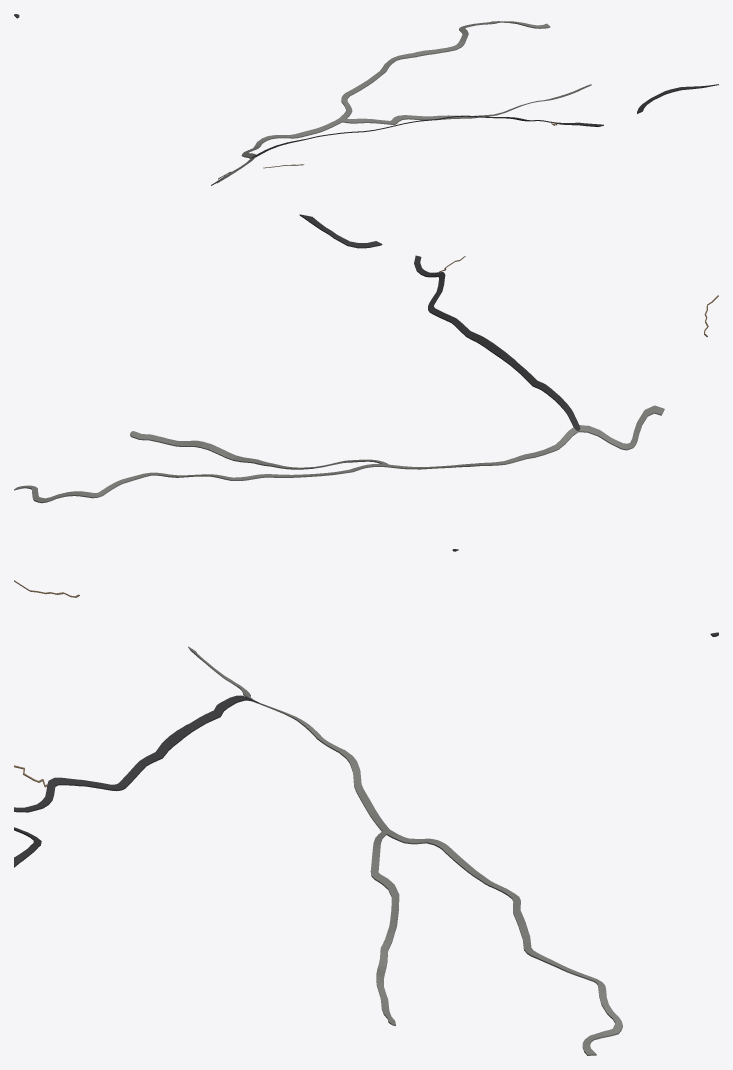
The picture shows the model from 3 angles, top to bottom: view 1: azimuth 30°, elevation 25°; view 2: azimuth 150°, elevation 25°; view 3: azimuth 270°, elevation 25°; orthographic projection. The views are drawn at different scales.
Bounding box in the file's own units: 587 × 164 × 577.
